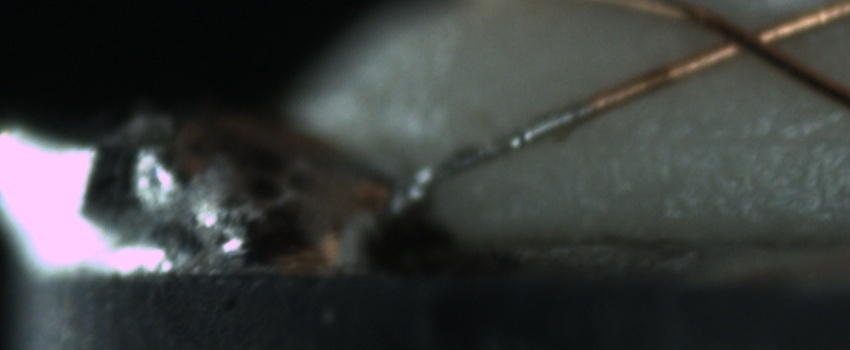CL: (698, 7, 794, 68)
DL: (618, 106, 846, 170)
TS: (396, 101, 589, 207)
